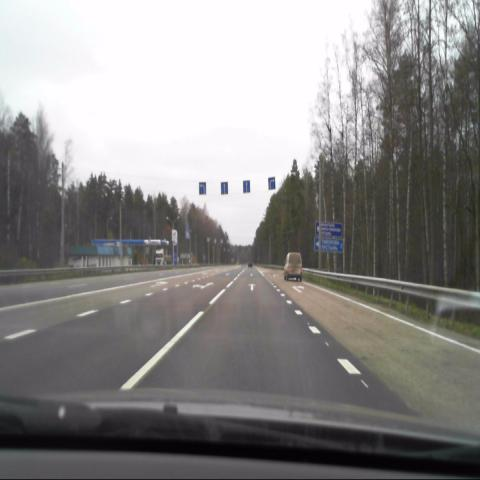5_15_2: (268, 177, 276, 191), (220, 181, 228, 194), (243, 180, 250, 194), (199, 182, 206, 195)
